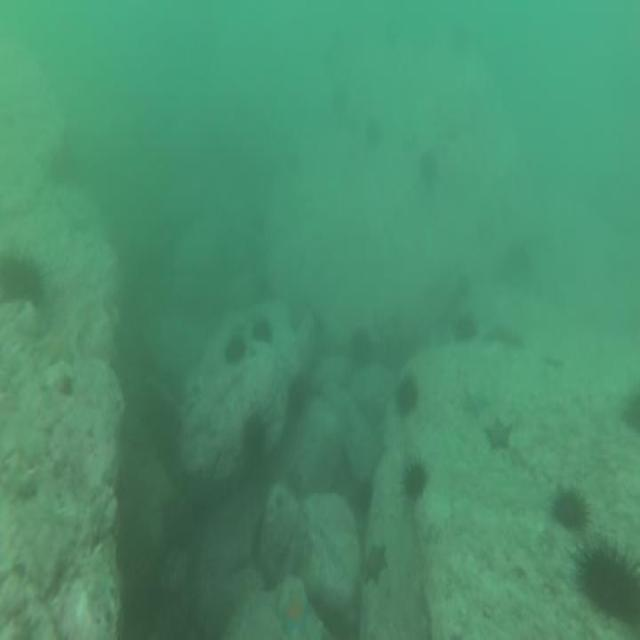echinus: (568, 534, 640, 635), (548, 479, 596, 548), (0, 250, 50, 314), (499, 234, 536, 287), (399, 452, 432, 509), (392, 373, 424, 425), (239, 409, 271, 460), (347, 322, 374, 378), (286, 366, 314, 416), (221, 330, 248, 370), (620, 388, 640, 438), (452, 310, 480, 344), (416, 142, 439, 182), (362, 109, 386, 147), (250, 310, 274, 346), (355, 478, 376, 518)
starfish: (272, 580, 316, 640), (358, 539, 391, 588), (482, 411, 516, 458)
